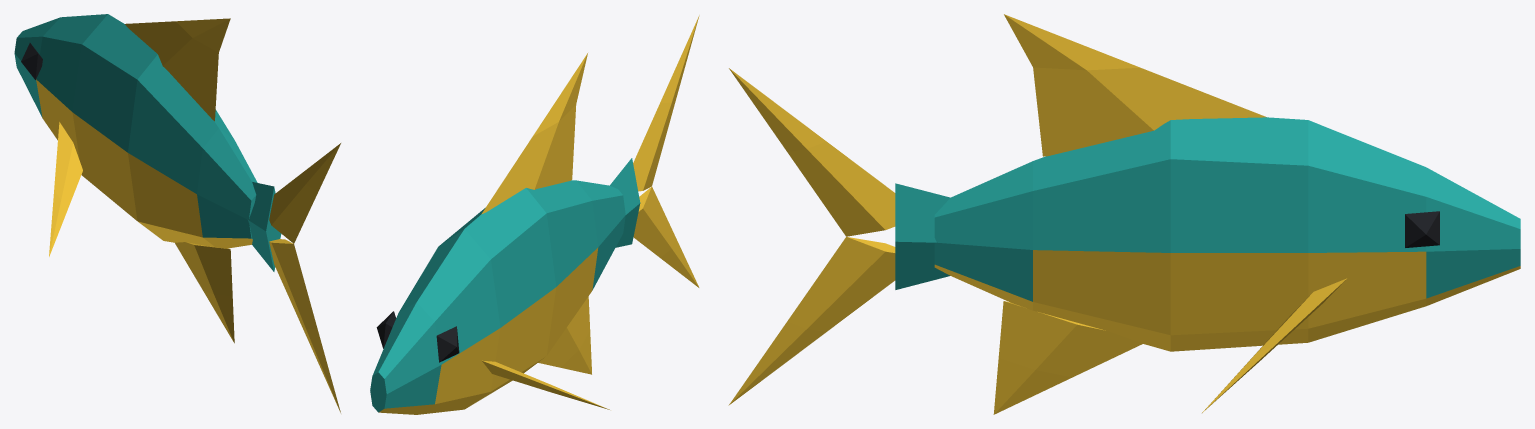
Rendered from fish_small.glb.
3 views of the same model, side by side, from view 1: azimuth 30°, elevation 25°; view 2: azimuth 150°, elevation 25°; view 3: azimuth 270°, elevation 25° (orthographic). The views are drawn at different scales.
Parts seen in each view (by area): view 1: Body, Tail, Fin_L; view 2: Body, Tail, Fin_L; view 3: Body, Tail, Fin_R.
Part boxes in pixels (x1,y1,x2,y2): Body: (14, 14, 257, 343); Tail: (248, 143, 340, 412); Fin_L: (49, 122, 82, 256); Body: (370, 53, 625, 414); Tail: (610, 15, 699, 287); Fin_L: (482, 360, 609, 409); Body: (934, 14, 1520, 414); Tail: (728, 68, 950, 405); Fin_R: (1202, 278, 1346, 412).
Bounding box in the file's own units: 0.15 × 0.225 × 0.403.
